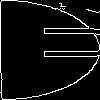U: (25, 25, 100, 61)
